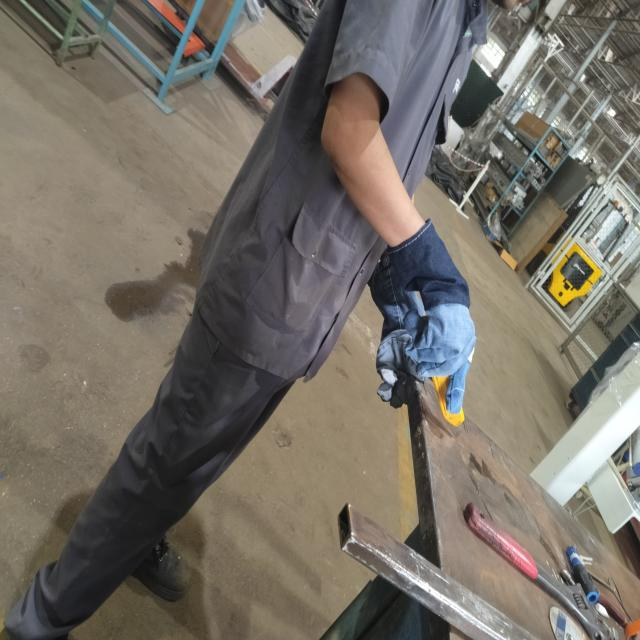Gloves-Detection: (376, 244, 479, 414)
